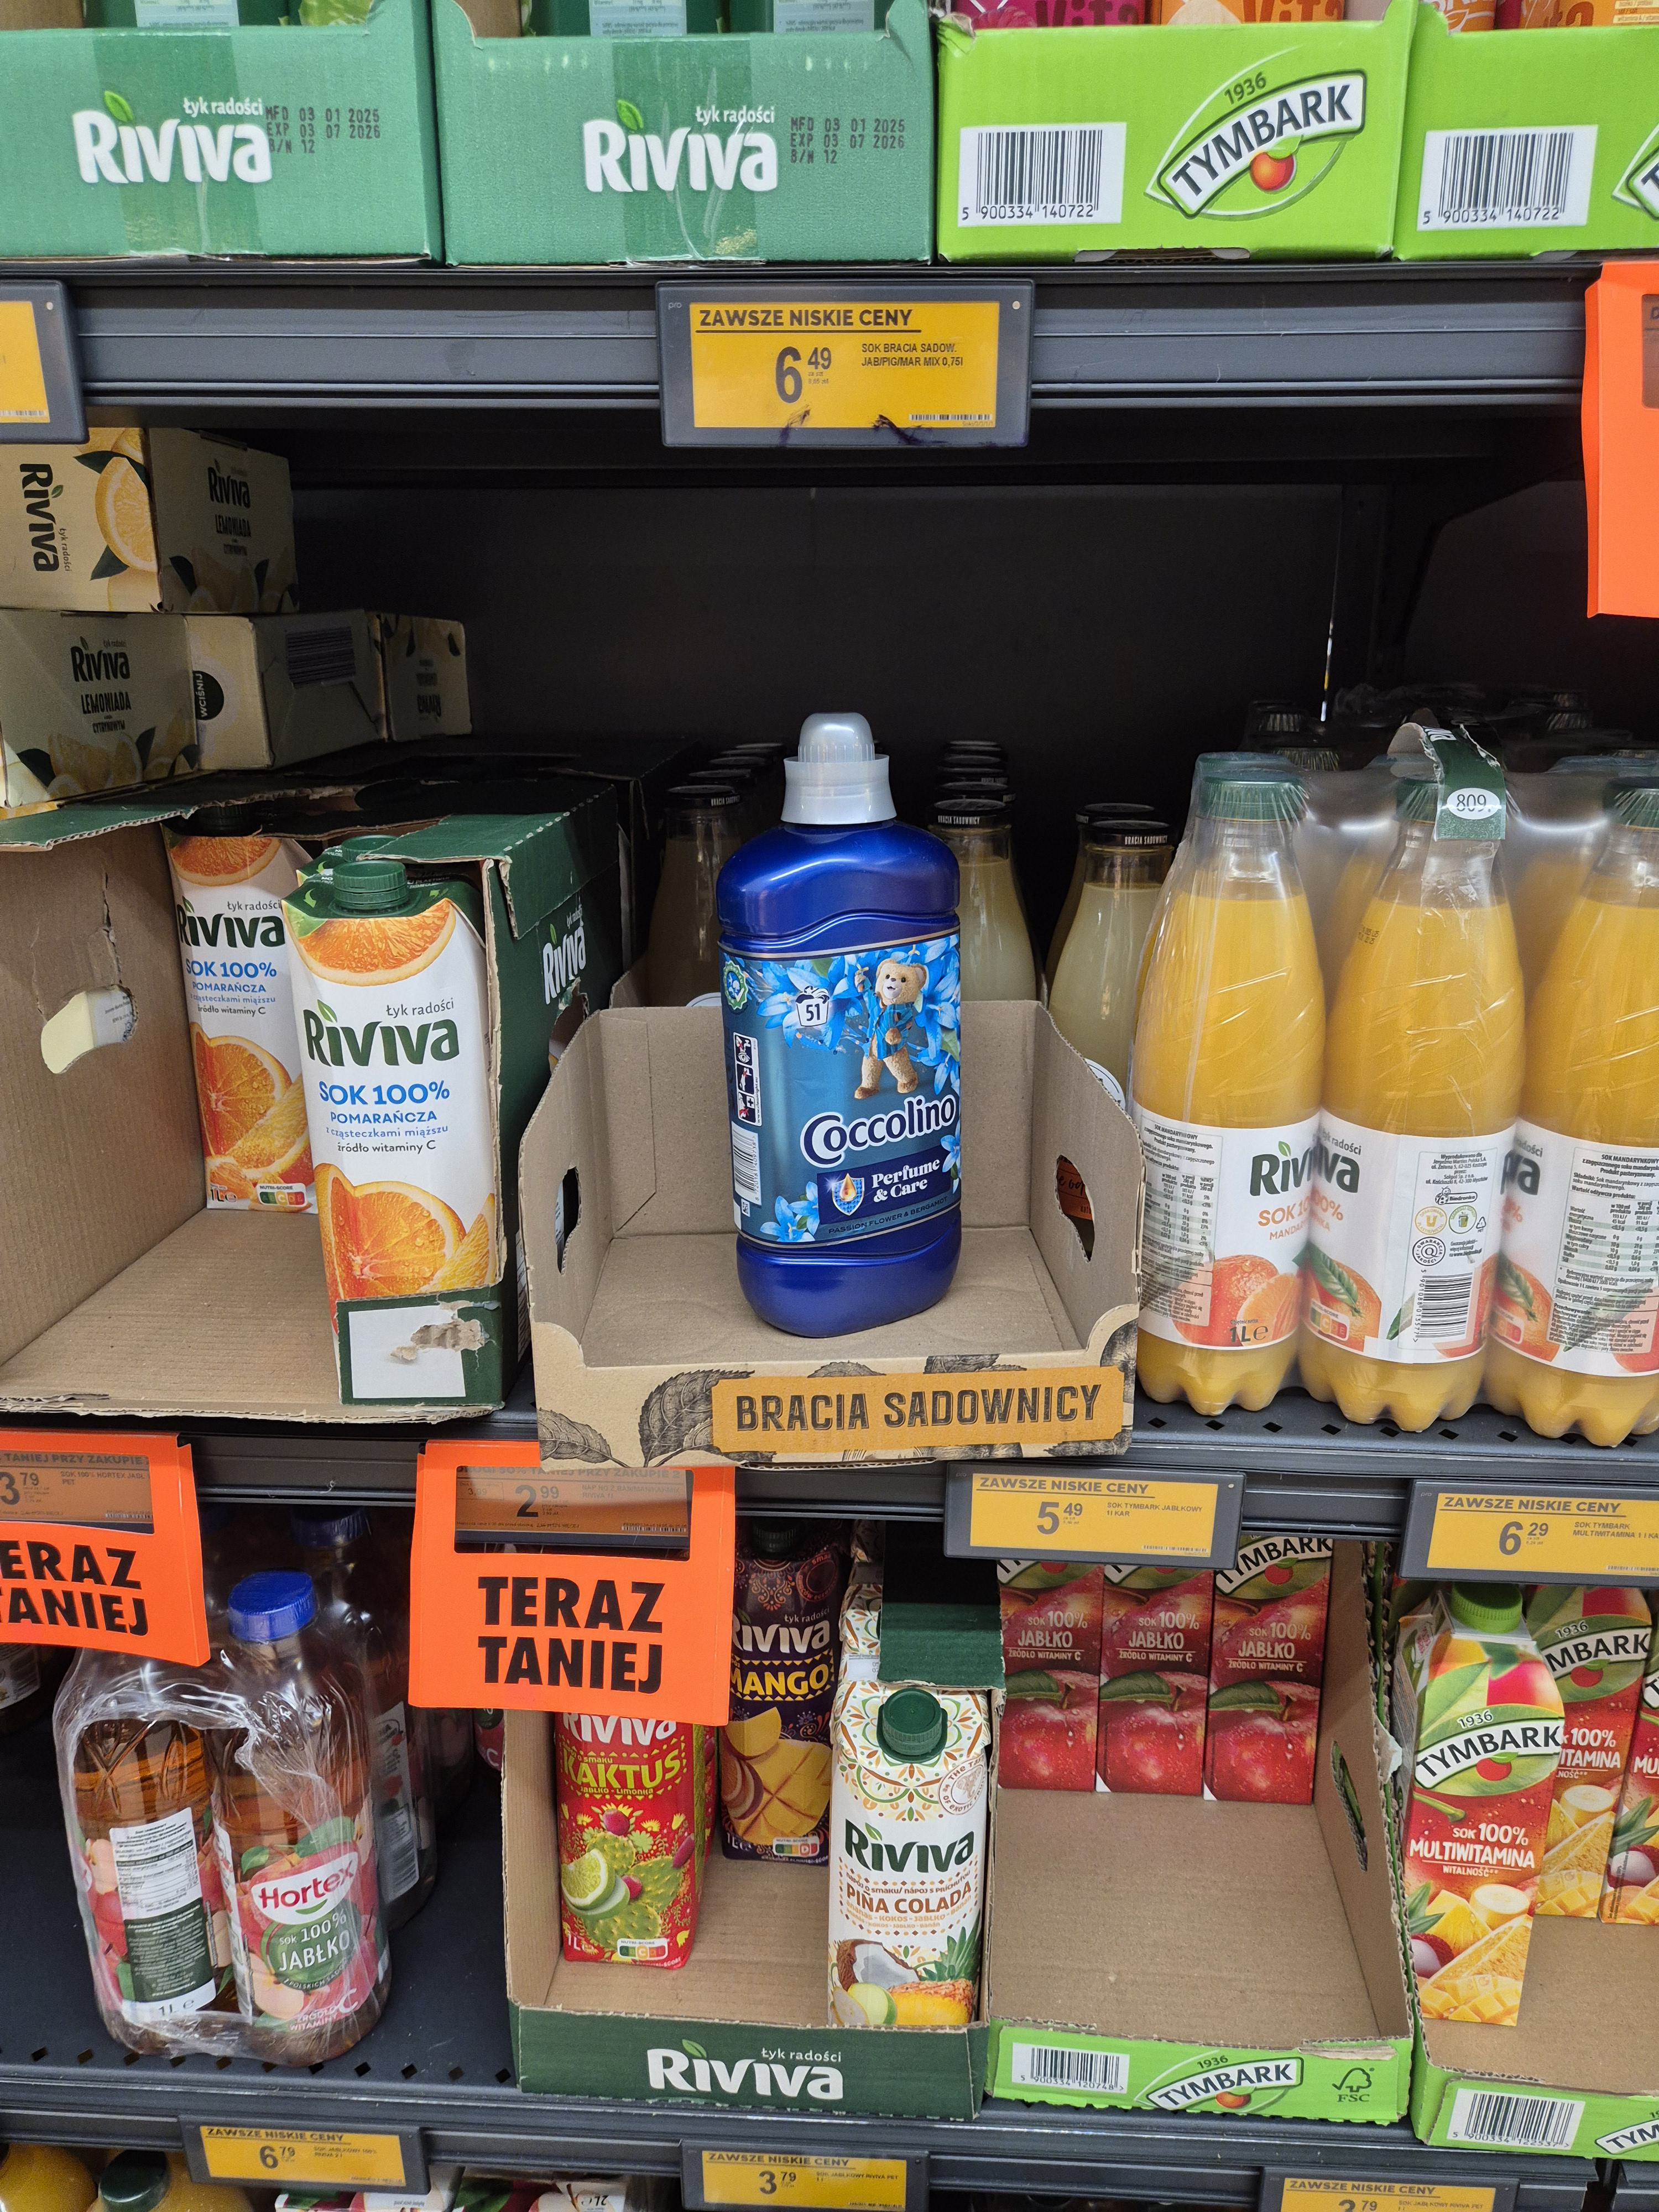cocolino: (706, 685, 986, 1334)
